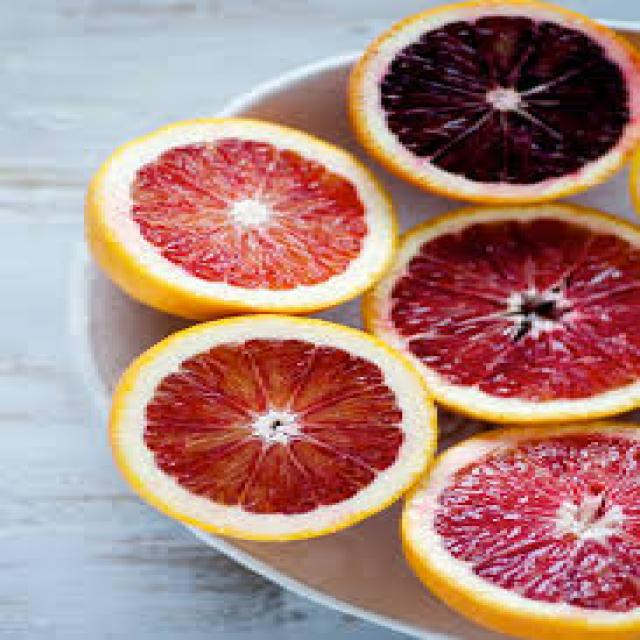orange: (109, 316, 434, 538), (84, 116, 395, 312), (349, 2, 640, 202), (370, 207, 636, 424), (398, 423, 640, 640)
